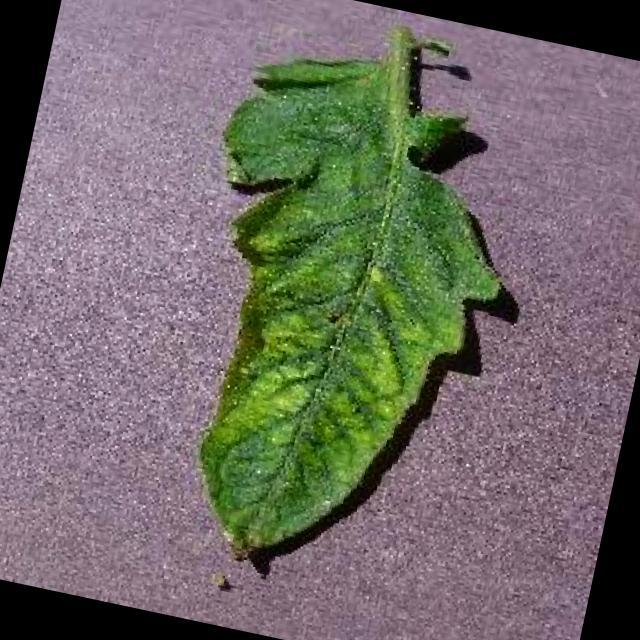Tomato mosaic virus leaf: (133, 31, 540, 606)
